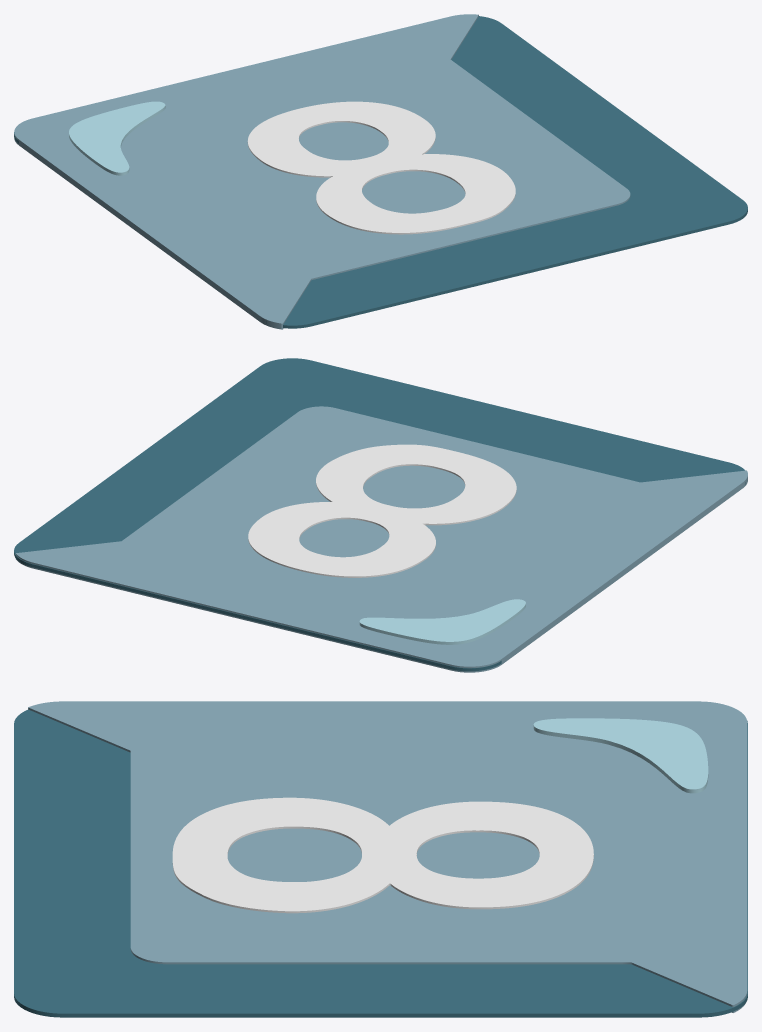
File: emoji_u0038_20e3.glb
3 renders of one model, top to bottom at view 1: azimuth 30°, elevation 25°; view 2: azimuth 150°, elevation 25°; view 3: azimuth 270°, elevation 25°, orthographic. The views are drawn at different scales.
Parts seen in each view (by area): view 1: emoji_u0038_20e3; view 2: emoji_u0038_20e3; view 3: emoji_u0038_20e3.
Boxes of the visible parts, bbox=[...] form: emoji_u0038_20e3: bbox=[14, 14, 747, 329]; emoji_u0038_20e3: bbox=[14, 358, 747, 672]; emoji_u0038_20e3: bbox=[14, 701, 747, 1017].
Bounding box in the file's own units: 0.0339 × 0.0008 × 0.0339.
